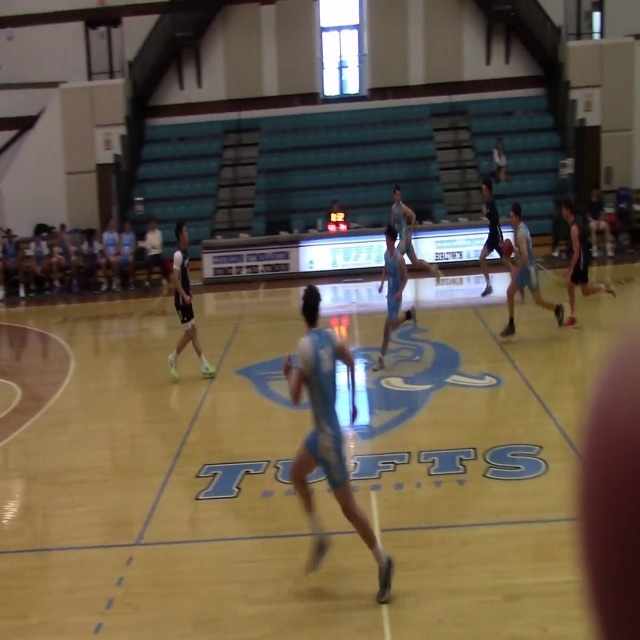Basketball: (500, 238, 513, 258)
